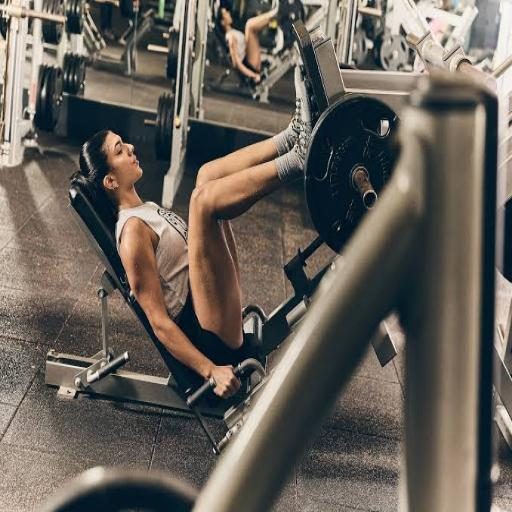Leg Press: (57, 80, 416, 388)
